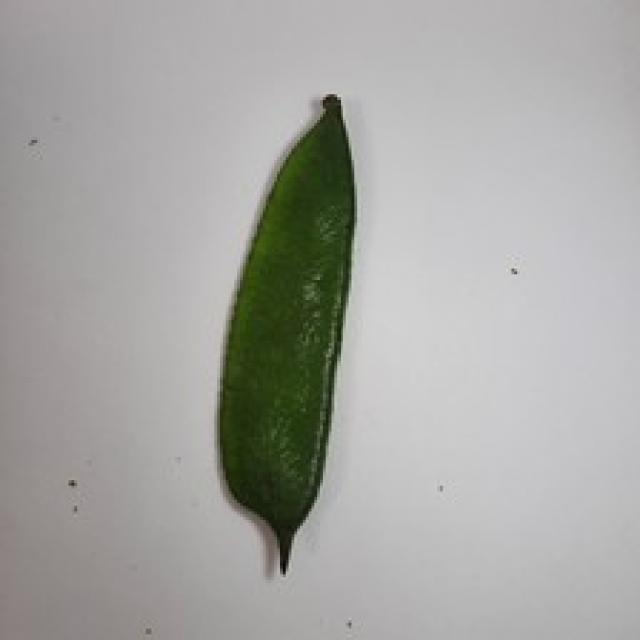Bean: (214, 91, 357, 574)
